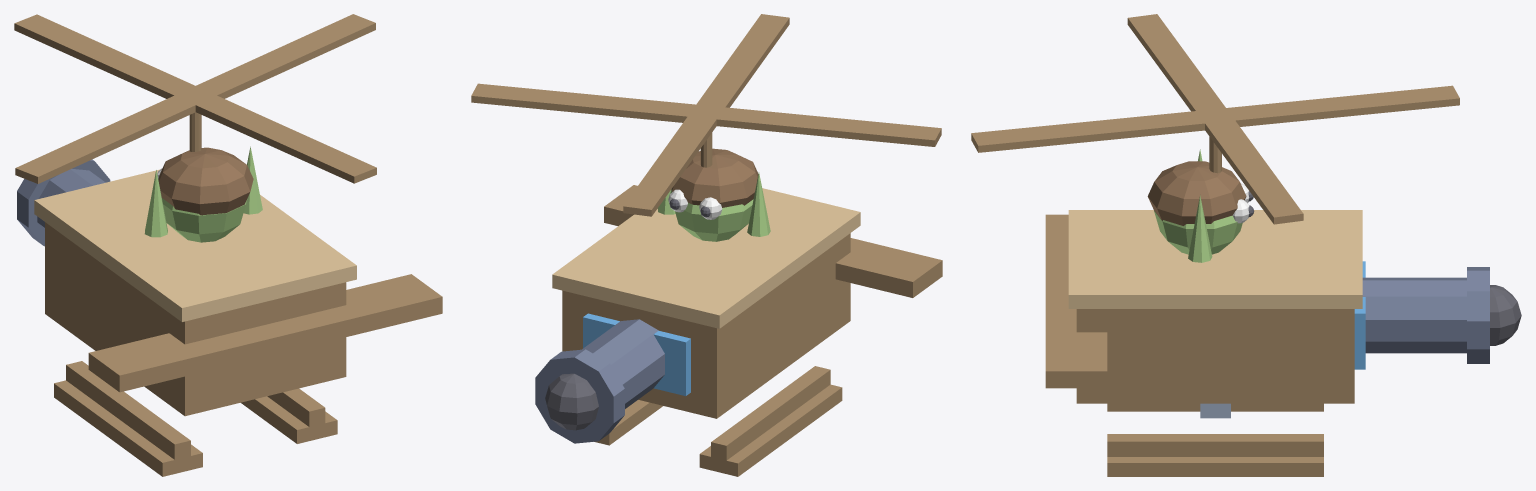
Rendered from flying_machine.glb.
3 views of the same model, side by side, from view 1: azimuth 30°, elevation 25°; view 2: azimuth 150°, elevation 25°; view 3: azimuth 270°, elevation 25° (orthographic). The views are drawn at different scales.
Parts seen in each view (by area): view 1: flying_machine; view 2: flying_machine; view 3: flying_machine.
Boxes of the visible parts, bbox=[...] form: flying_machine: bbox=[14, 14, 442, 476]; flying_machine: bbox=[471, 14, 942, 476]; flying_machine: bbox=[971, 14, 1521, 476].
Size of the model in its own units: 3.12 by 2.27 by 3.56.
